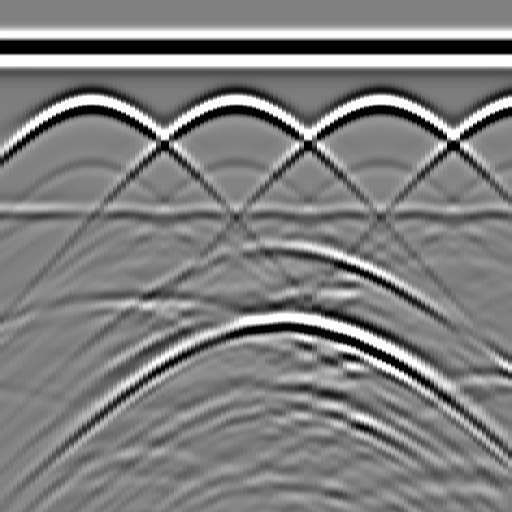grout_surface: (1, 198, 512, 228)
rebar: (69, 84, 109, 124), (214, 84, 254, 124), (358, 84, 398, 124), (502, 84, 512, 124)
rock_surface: (1, 289, 511, 390)
water_void: (252, 223, 312, 263)
